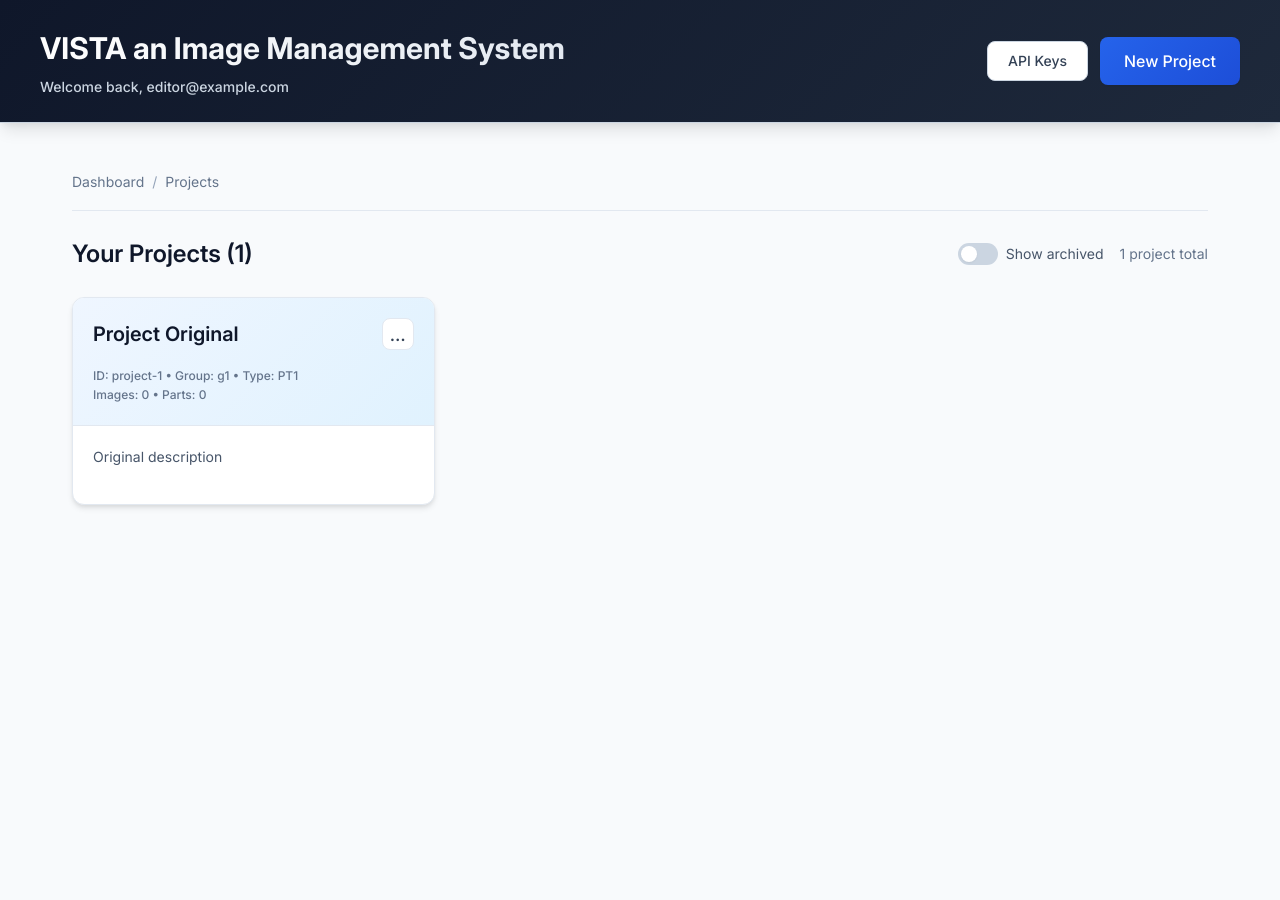
Test: project type UI exposure › shows project card ellipsis menu and allows editing name and type
Expected: the heading "Project Original" is shown, x1=93 y1=318 x2=238 y2=350
Click the button named "Project options for Project Original". click: x=398, y=334
box: x1=382 y1=318 x2=414 y2=350
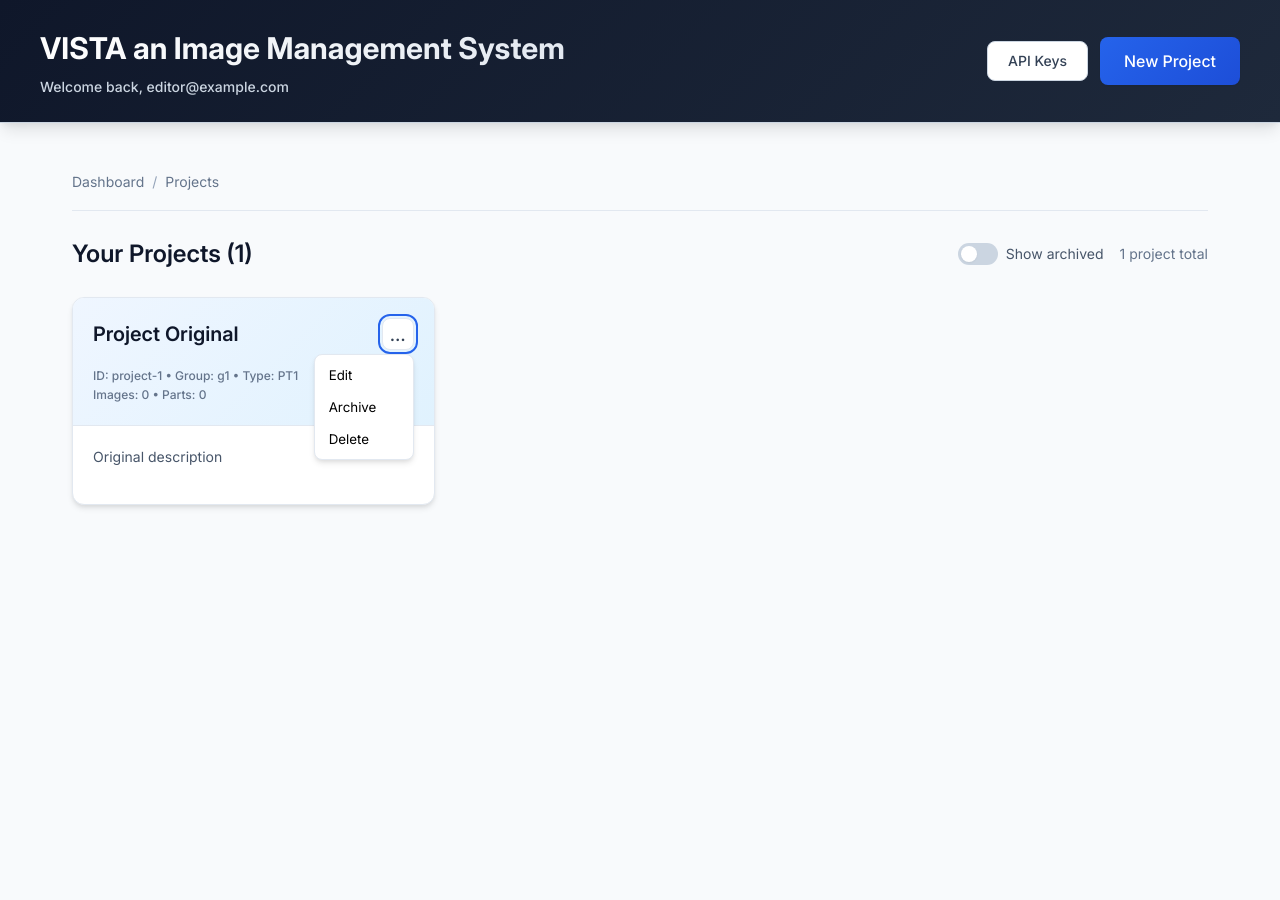
Click the button "Edit". click: x=364, y=375
box: x1=319 y1=359 x2=409 y2=391
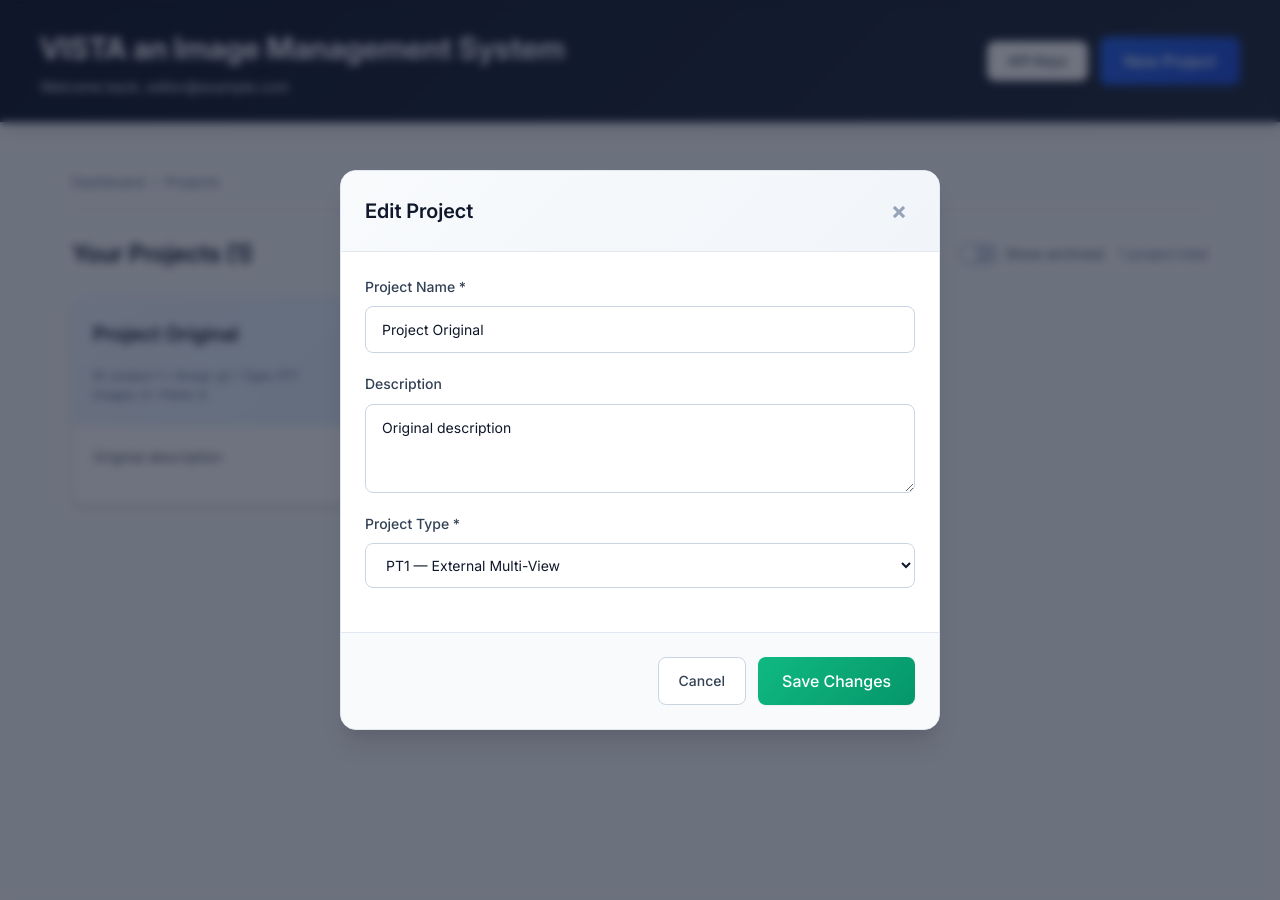
Replace the text in the field labelled "Project Name *" with "Project Edited". click: x=640, y=330
box: x1=365 y1=306 x2=915 y2=353
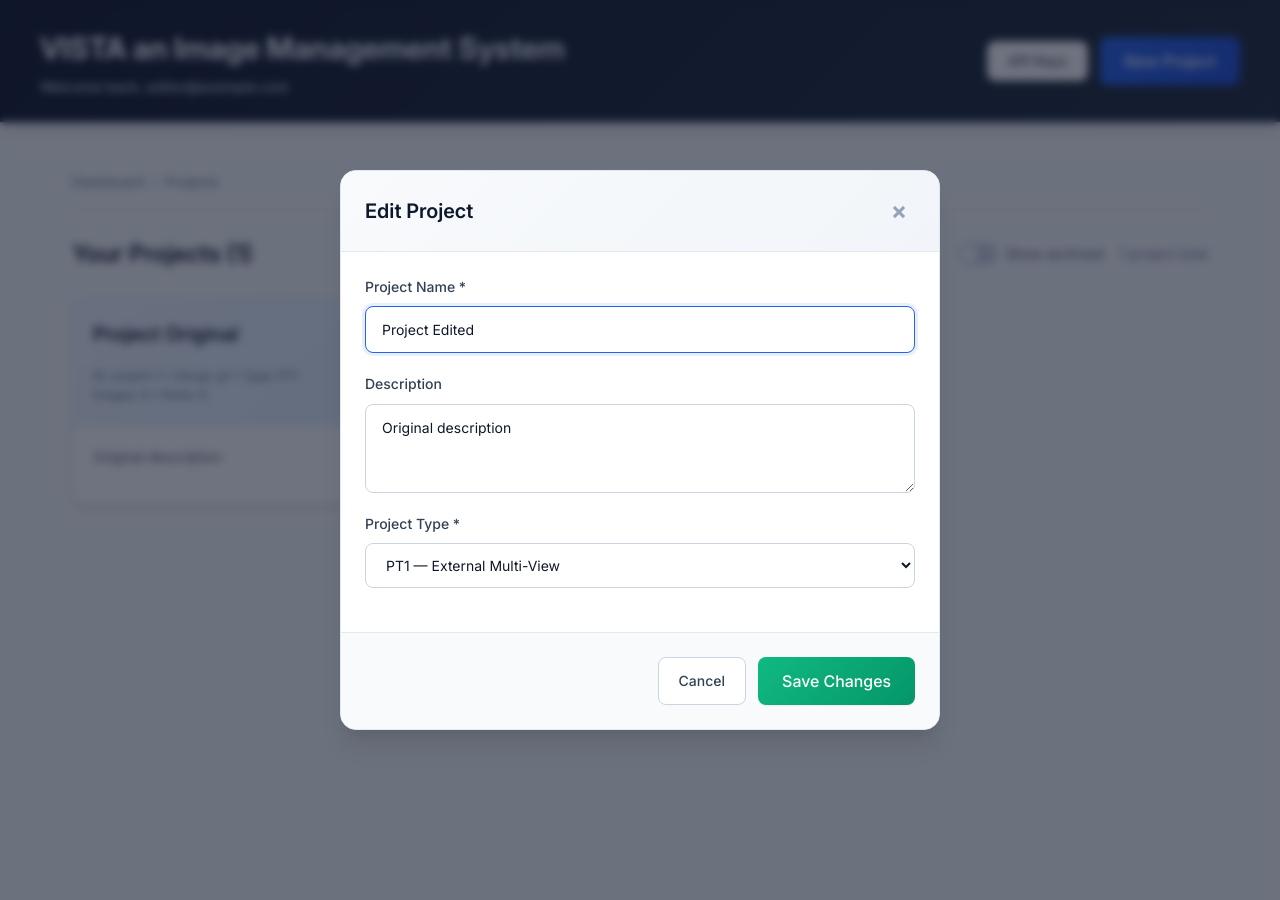
Select "PT2 — 3D Slice Review" in the dropdown labelled "Project Type *". click: x=640, y=566
box: x1=365 y1=543 x2=915 y2=588
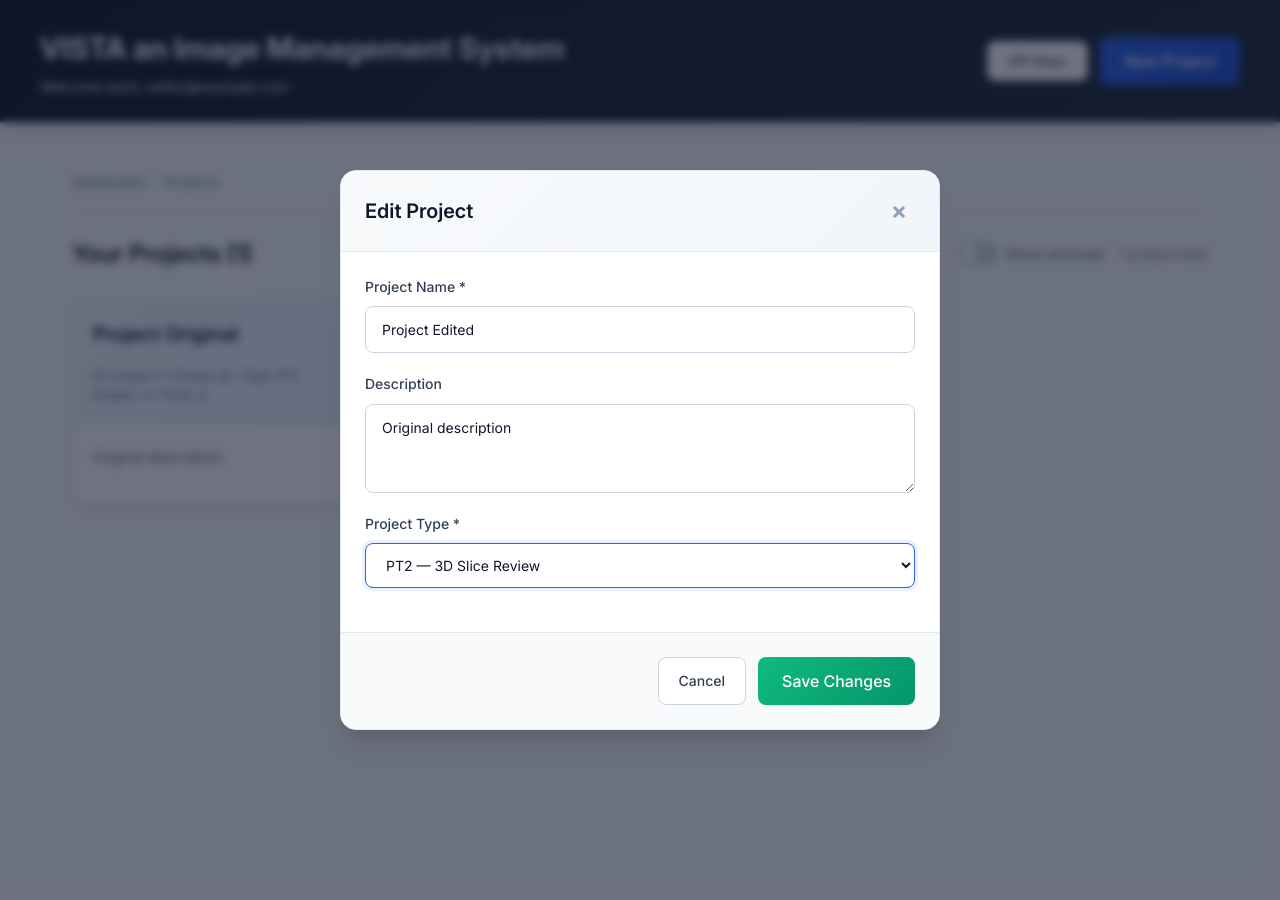
Click the button "Save Changes". click: x=837, y=681
box: x1=758 y1=657 x2=915 y2=705
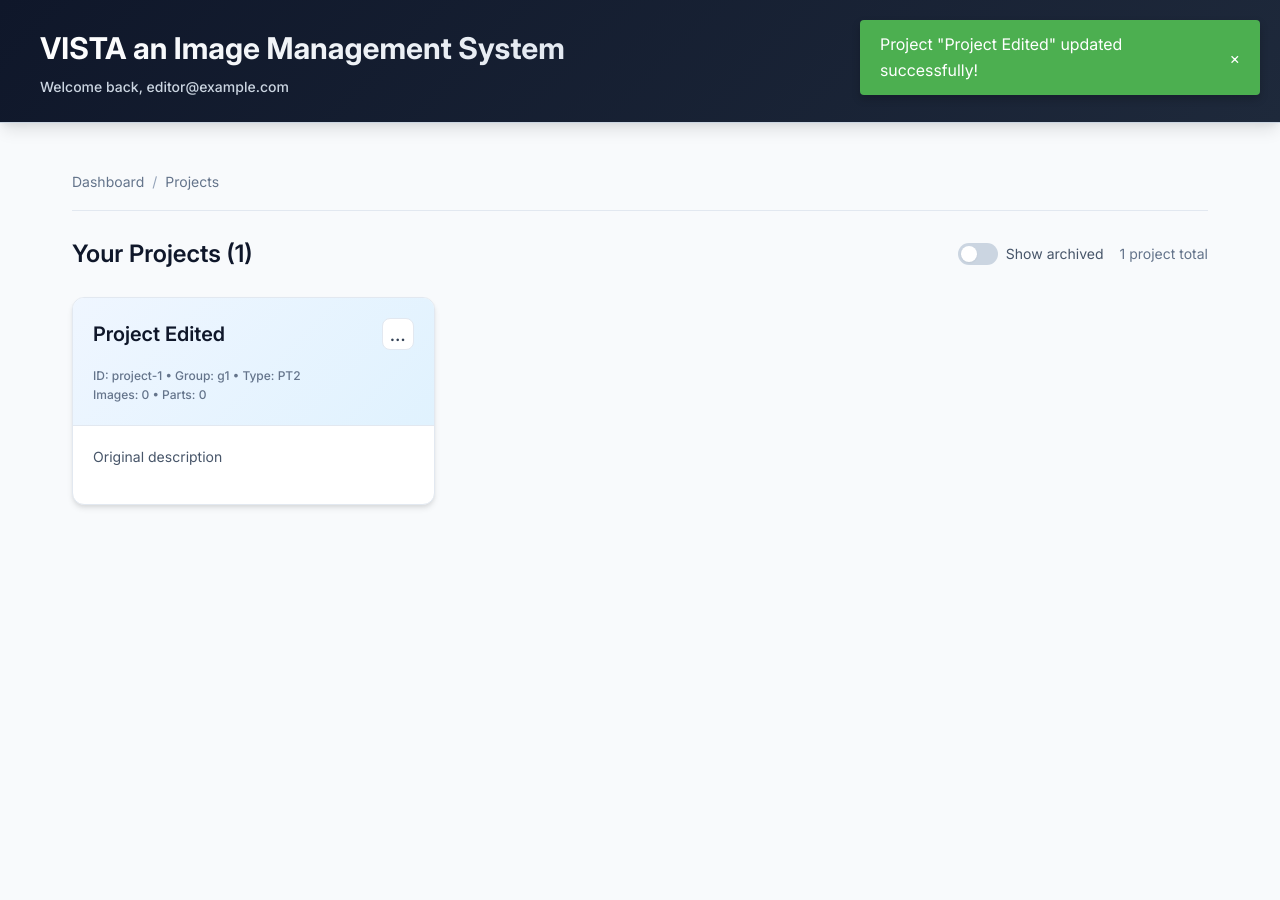
Expected: the heading "Project Edited" is shown, x1=93 y1=318 x2=225 y2=350
Expected: the text "ID: project-1 • Group: g1 • Type: PT2" is shown, x1=93 y1=368 x2=301 y2=383
